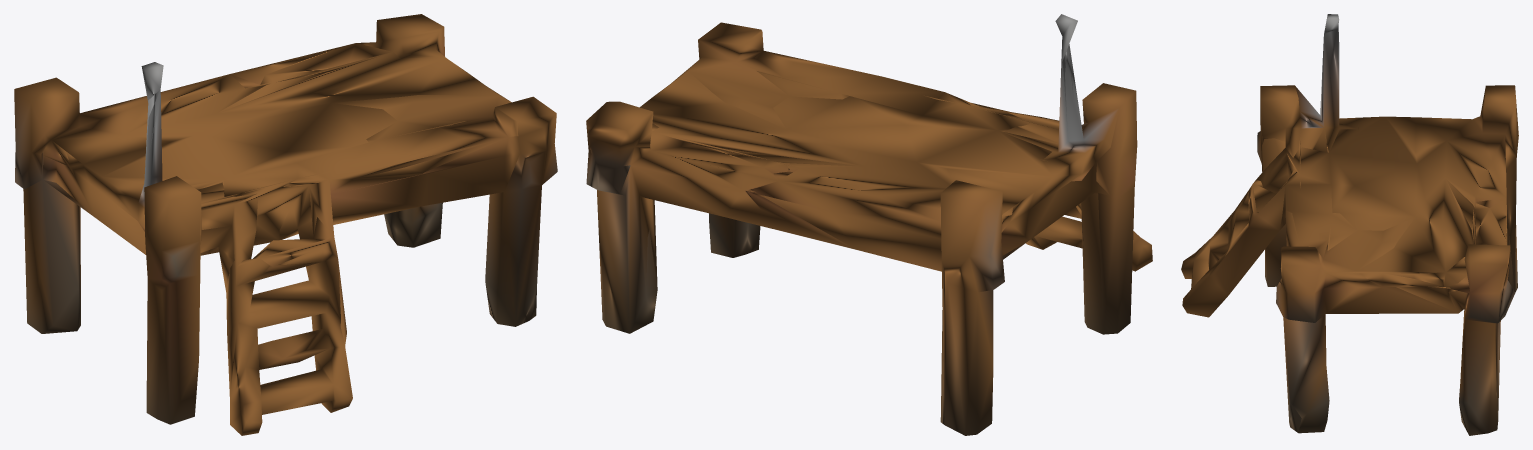
Rendered from gen3d-wooden-dock-lod1.glb.
3 views of the same model, side by side, from view 1: azimuth 30°, elevation 25°; view 2: azimuth 150°, elevation 25°; view 3: azimuth 270°, elevation 25° (orthographic). The views are drawn at different scales.
Visible parts, largest first — view 1: part_0; view 2: part_0; view 3: part_0.
Boxes of the visible parts, x1=… form: part_0: x1=14, y1=14, x2=557, y2=435; part_0: x1=586, y1=14, x2=1152, y2=435; part_0: x1=1181, y1=14, x2=1518, y2=435.
Bounding box in the file's own units: 1.29 × 0.9967 × 1.1.
